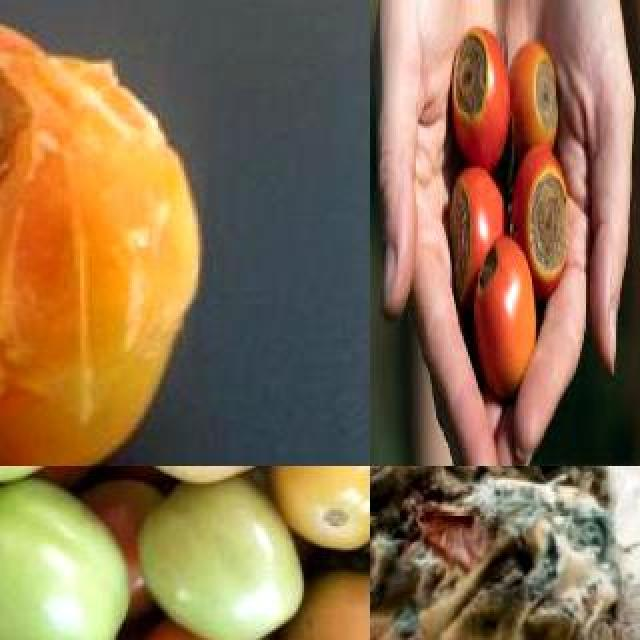Rotten_Tomato: (0, 14, 206, 466), (370, 466, 640, 640), (448, 162, 510, 310), (452, 26, 512, 166), (514, 150, 570, 294), (508, 36, 564, 158)
